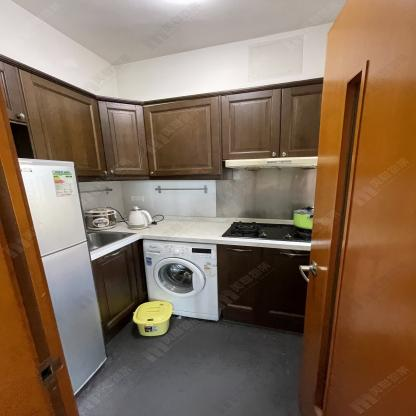Exhaust Hood: (225, 156, 318, 170)
Fridge: (17, 159, 108, 396)
Stove: (219, 220, 312, 245)
Washing Machine: (144, 238, 219, 322)
